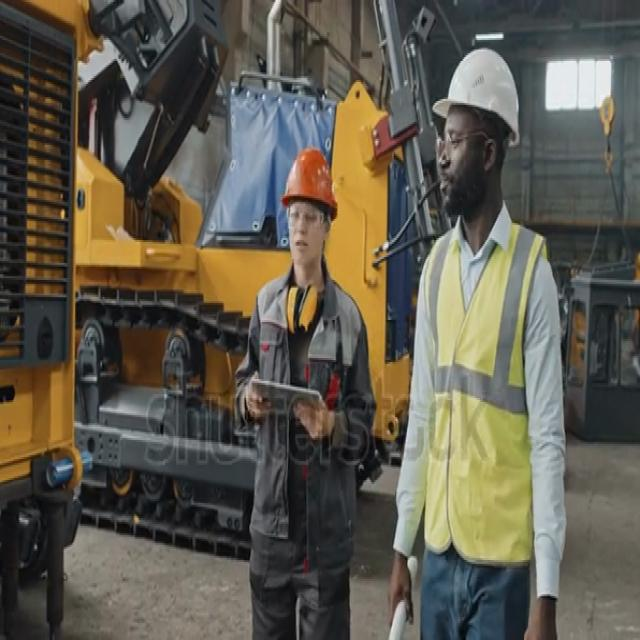Ear-Protection: (283, 270, 321, 342)
Glasses: (281, 199, 331, 228), (431, 132, 473, 164)
Helmet: (432, 45, 522, 149), (280, 145, 341, 210)
Vest: (417, 219, 547, 556)
